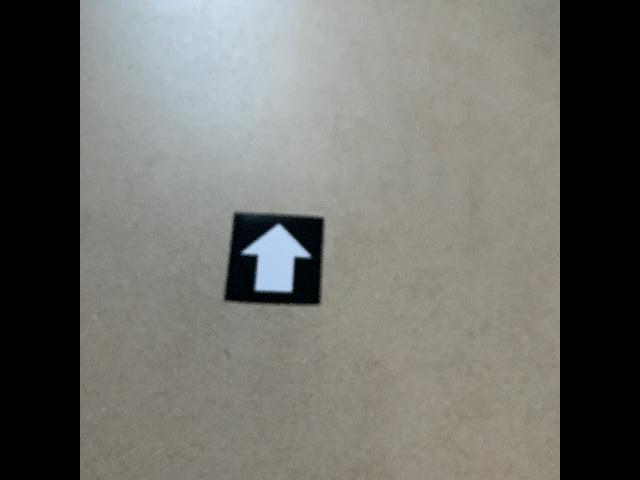up_arrow: (221, 207, 325, 308)
